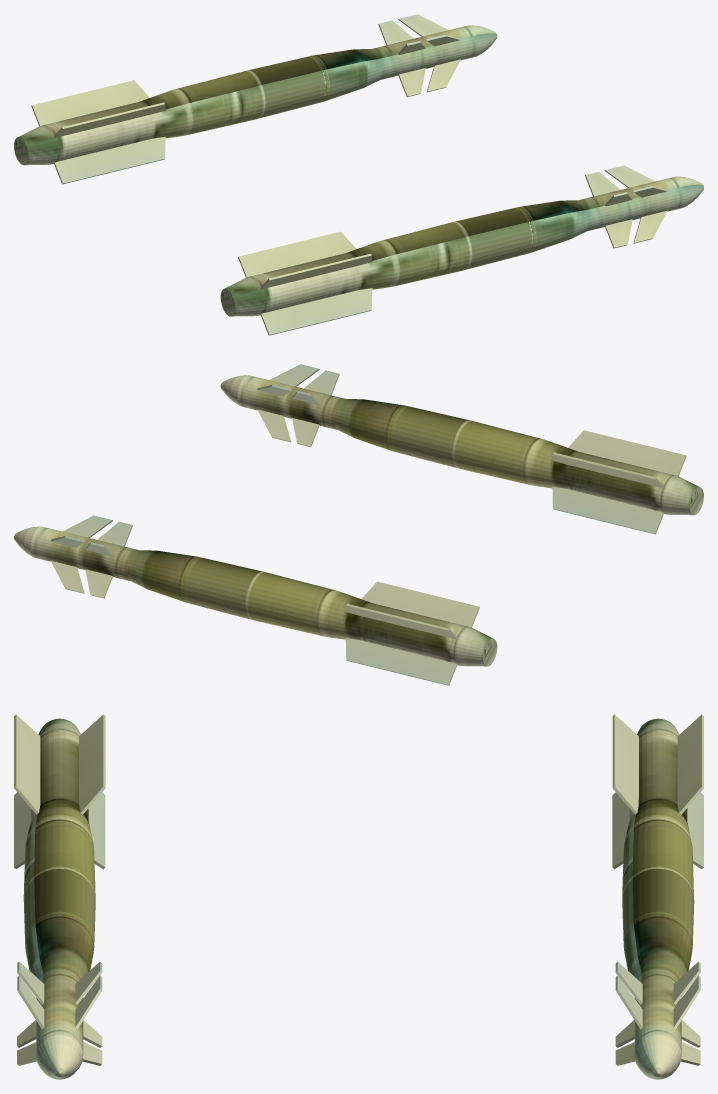
Rendered from m20daasm26.glb.
3 renders of one model, top to bottom at view 1: azimuth 30°, elevation 25°; view 2: azimuth 150°, elevation 25°; view 3: azimuth 270°, elevation 25°, orthographic. The views are drawn at different scales.
Visible parts, largest first — view 1: 円柱.005, 円柱.001; view 2: 円柱.001, 円柱.005; view 3: 円柱.005, 円柱.001.
Boxes of the visible parts, x1,y1,x2,y2 form: 円柱.005: [220, 165, 703, 335]; 円柱.001: [14, 14, 497, 184]; 円柱.001: [14, 515, 497, 685]; 円柱.005: [220, 364, 703, 534]; 円柱.005: [14, 714, 105, 1079]; 円柱.001: [612, 714, 703, 1079].
Bounding box in the file's own units: 2.32 × 0.267 × 2.01.
Materials: 2 (2 with a texture image).
